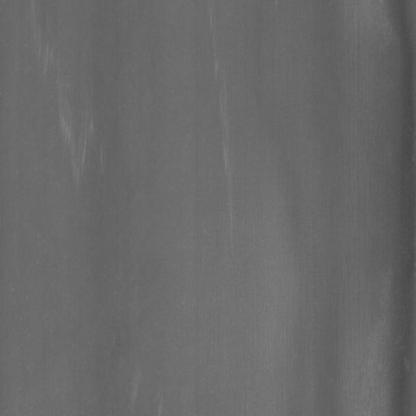silk_spot: (47, 49, 120, 209)
